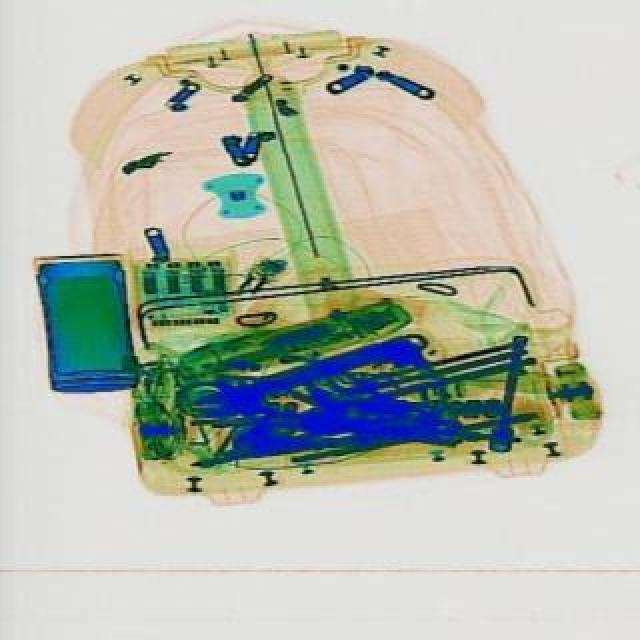scissors: (190, 328, 426, 428)
